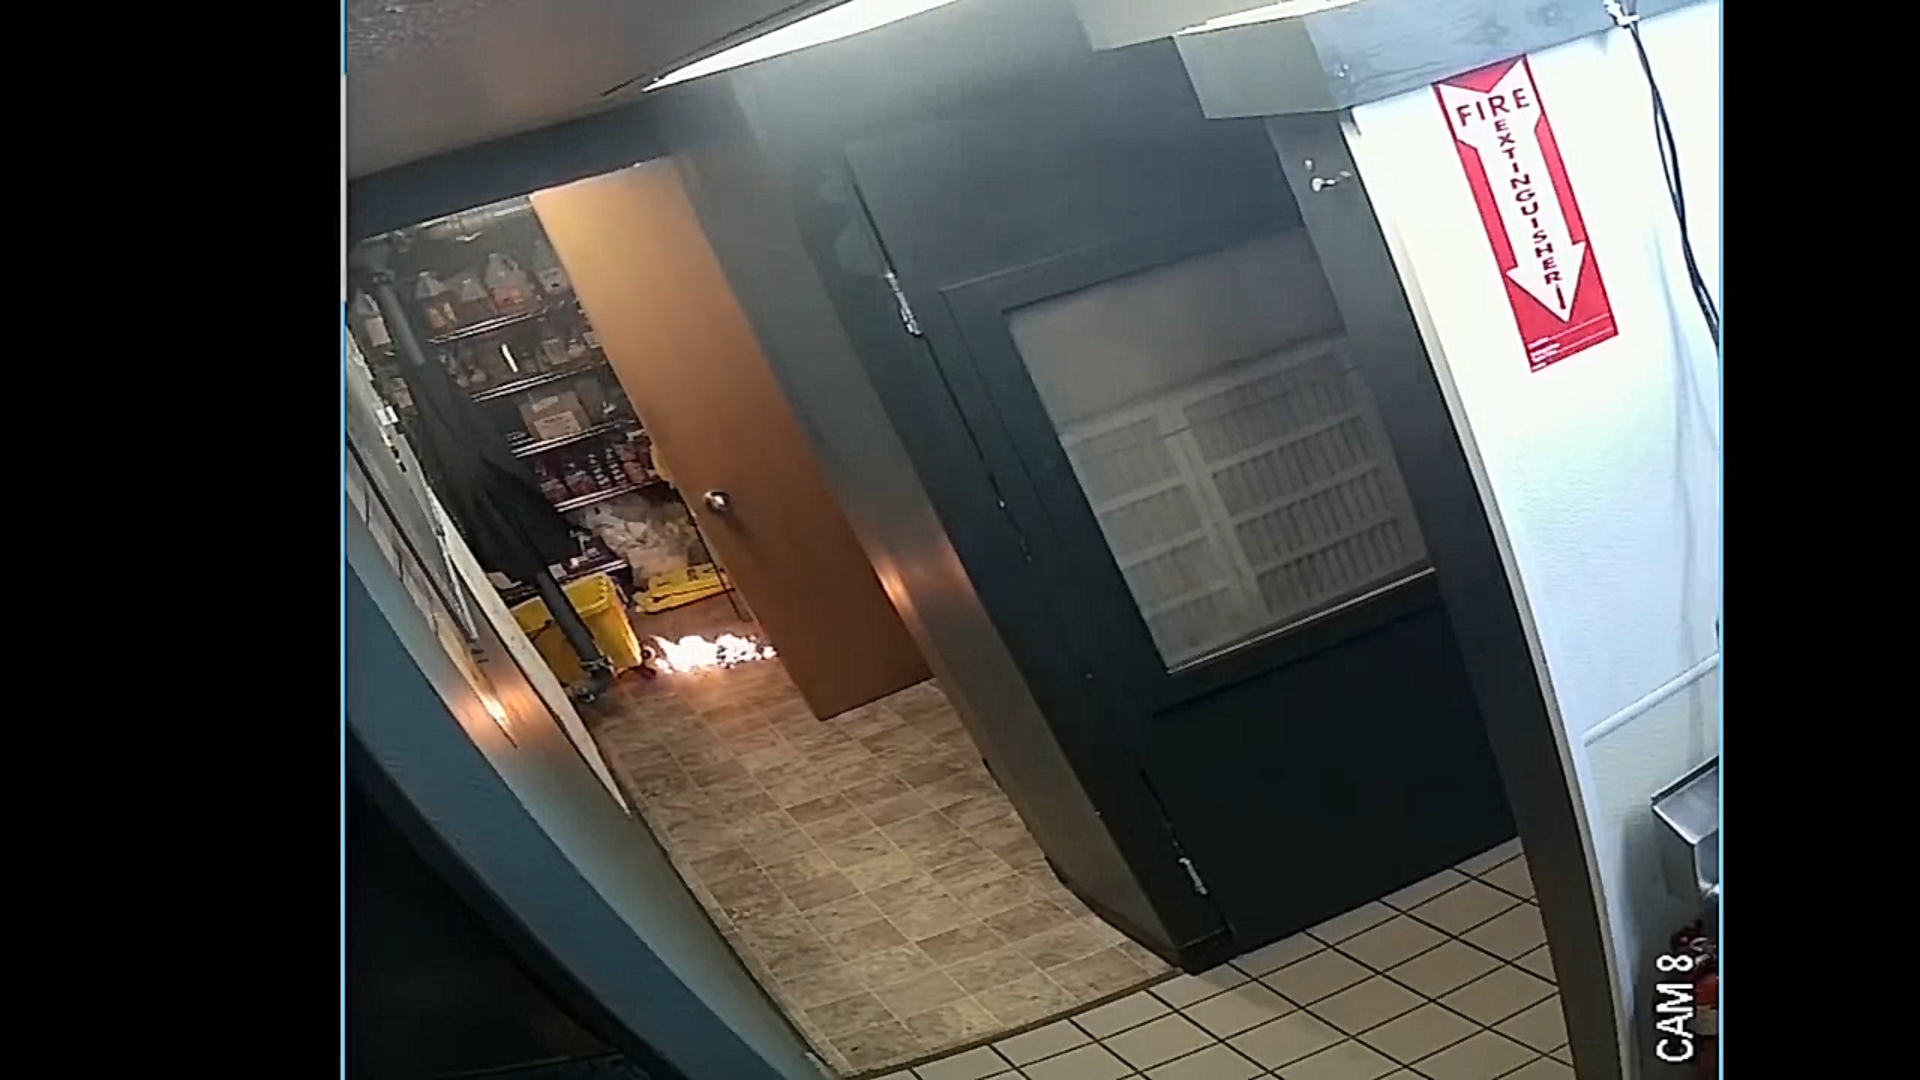fire: (644, 626, 785, 680)
